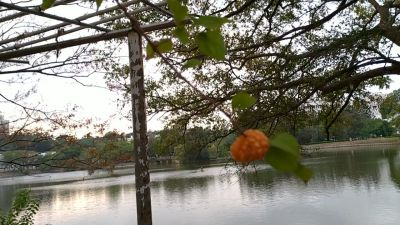eggs: (231, 128, 269, 165)
